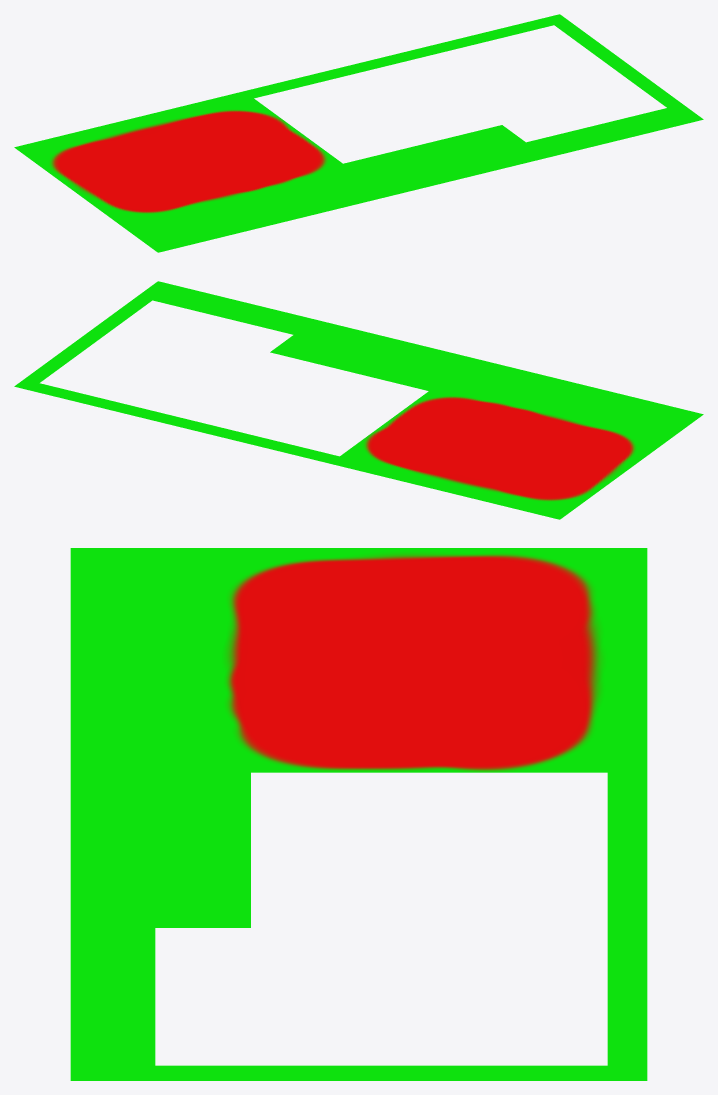
The model's file is KindergartenGrass.glb.
The picture shows the model from 3 angles, top to bottom: view 1: azimuth 30°, elevation 25°; view 2: azimuth 150°, elevation 25°; view 3: azimuth 270°, elevation 25°; orthographic projection. The views are drawn at different scales.
Parts seen in each view (by area): view 1: Ground; view 2: Ground; view 3: Ground.
Boxes of the visible parts, x1,y1,x2,y2 form: Ground: (14, 14, 703, 252); Ground: (14, 281, 703, 519); Ground: (70, 548, 647, 1080).
Bounding box in the file's own units: 70 × 0 × 32.
Materials: 1 (1 with a texture image).
